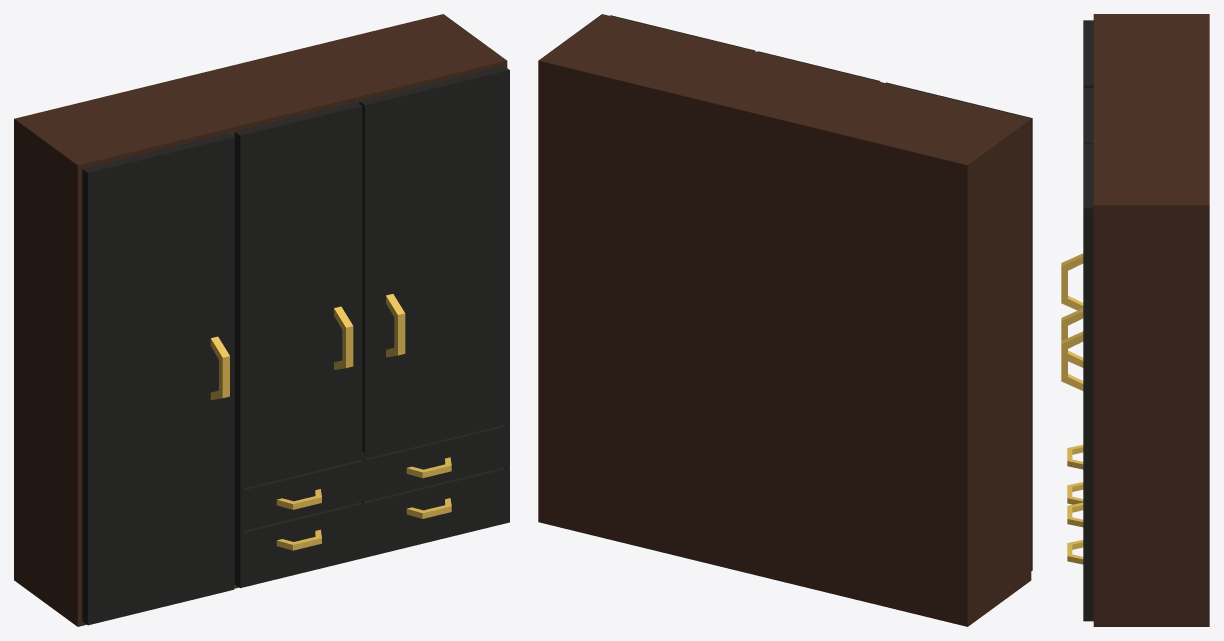
Rendered from WardRobe_3B.fbx.
3 renders of one model, left to right at view 1: azimuth 30°, elevation 25°; view 2: azimuth 150°, elevation 25°; view 3: azimuth 270°, elevation 25°, orthographic. The views are drawn at different scales.
Visible parts, largest first — view 1: polySurface1716; view 2: polySurface1716; view 3: polySurface1716.
Boxes of the visible parts, x1=… form: polySurface1716: x1=14, y1=14, x2=509, y2=626; polySurface1716: x1=538, y1=14, x2=1032, y2=626; polySurface1716: x1=1061, y1=14, x2=1209, y2=626.
Bounding box in the file's own units: 3.31 × 3.4 × 1.09.
Materials: 1 (1 with a texture image).
